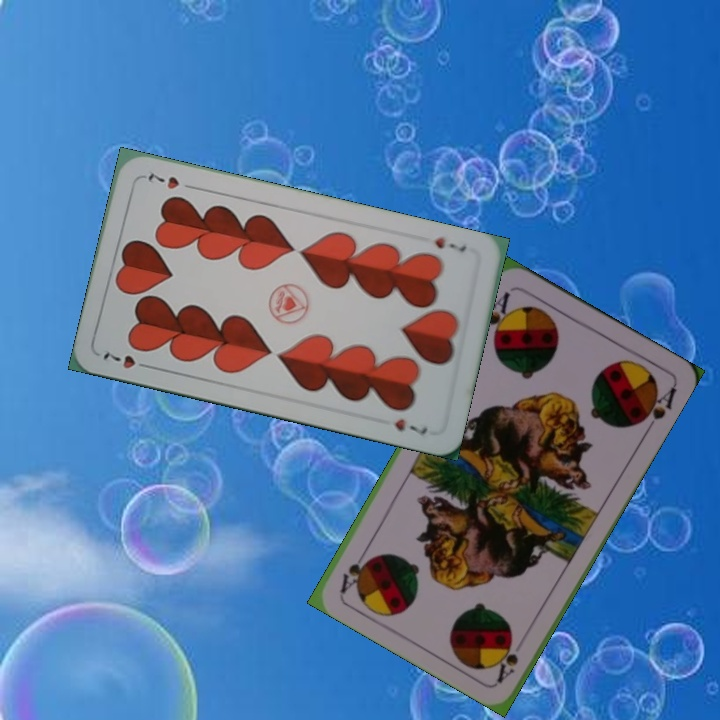H7: (99, 347, 155, 372), (430, 232, 470, 255)
SA: (483, 287, 516, 345), (493, 635, 521, 685)
